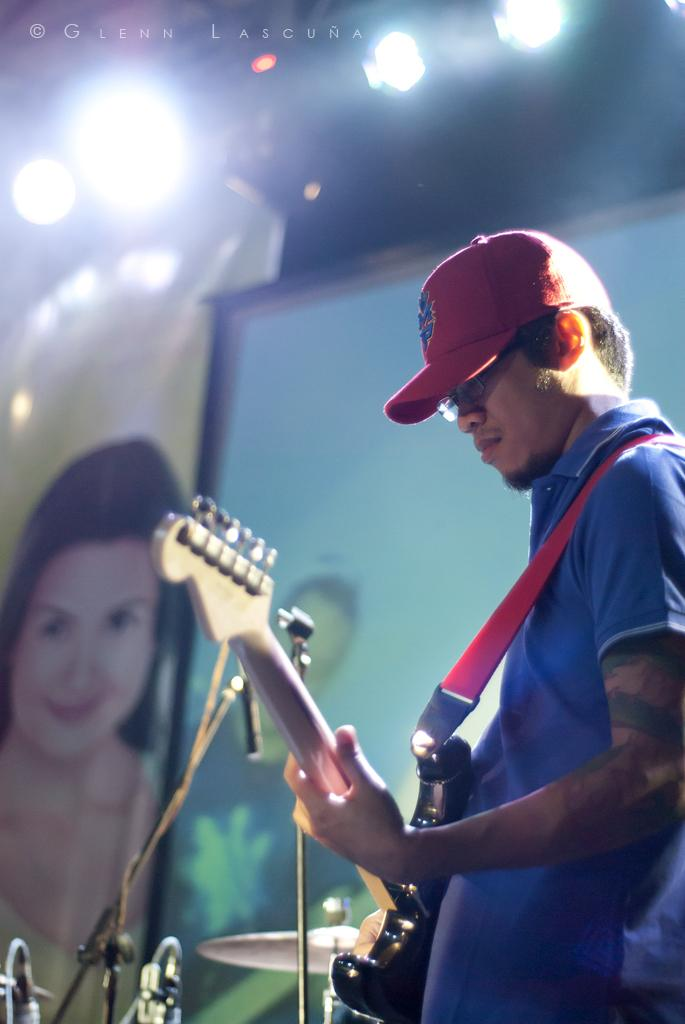Hat: (380, 226, 612, 426)
